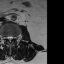CCS_normal: (8, 34, 11, 44)
LFS_stenosis: (13, 35, 15, 40)
LLS_normal: (11, 34, 13, 42)
RFS_stenosis: (4, 35, 6, 40)
RLS_normal: (6, 34, 9, 42)
